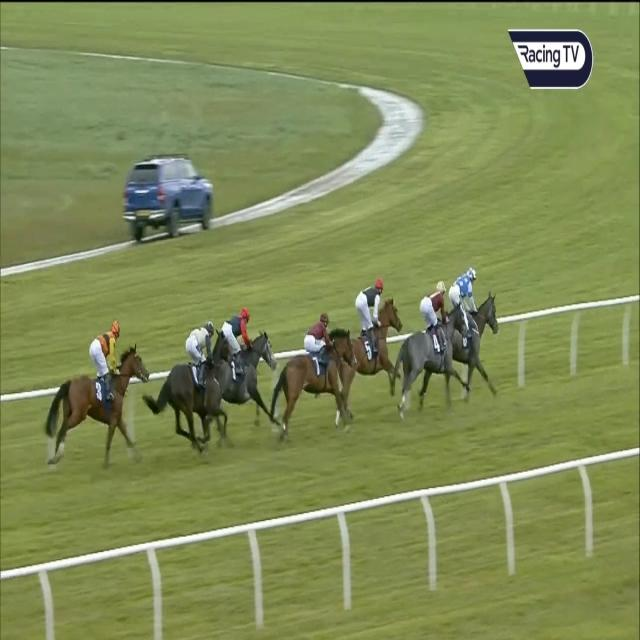horses-racing: (41, 321, 153, 462), (272, 312, 357, 446), (157, 317, 234, 457), (388, 280, 464, 417), (448, 252, 512, 412), (214, 291, 280, 429), (342, 280, 402, 396)
